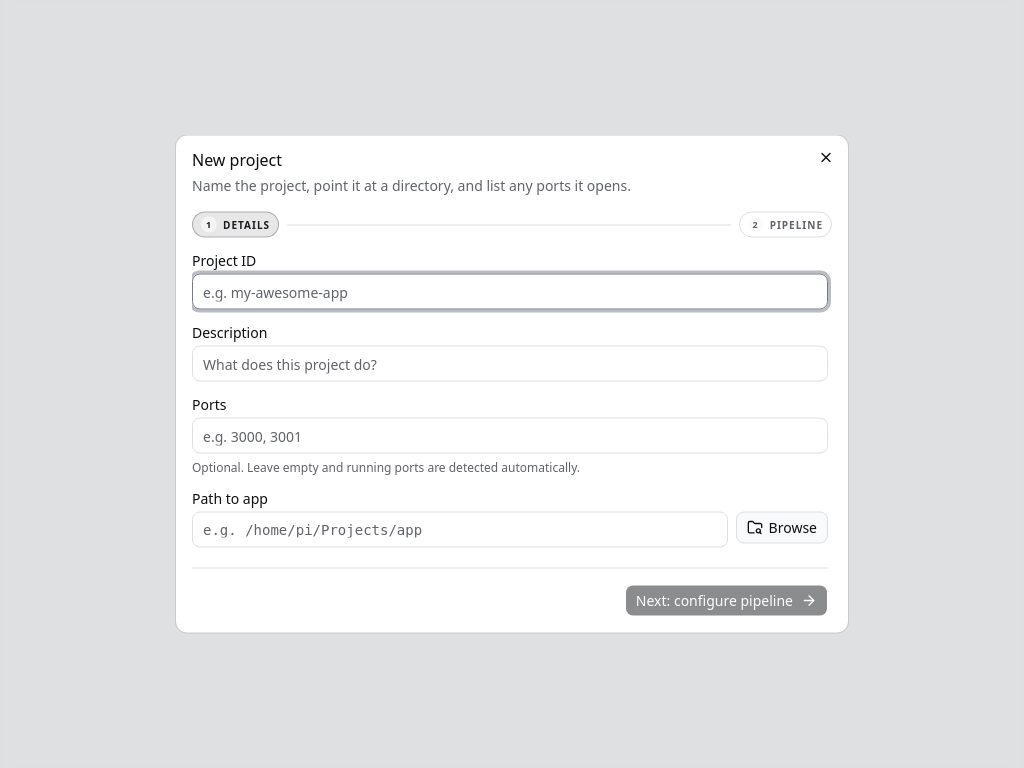
it: CreateProjectDialog details step › opens the file browser and fills the chosen path
The image size is (1024, 768).
Click the button "Browse" at [782, 528], box [736, 512, 828, 544]
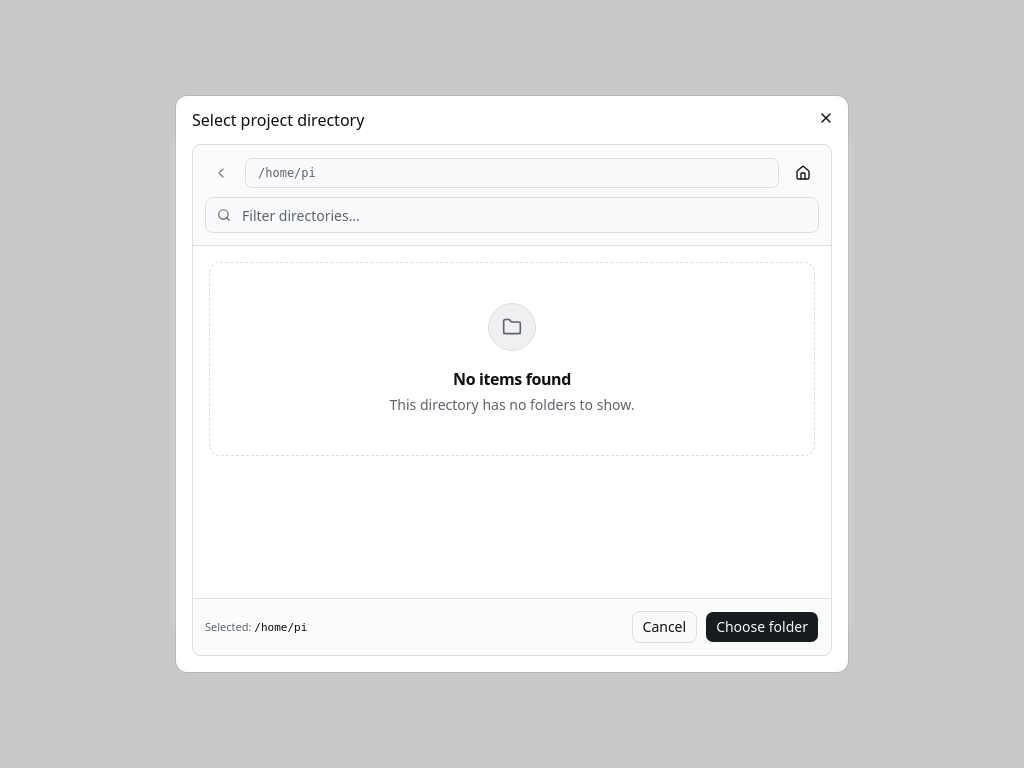
Result: the heading "Select project directory" is shown at [192, 109, 364, 131]
Click the button "Choose folder" at [762, 627], box [705, 611, 819, 643]
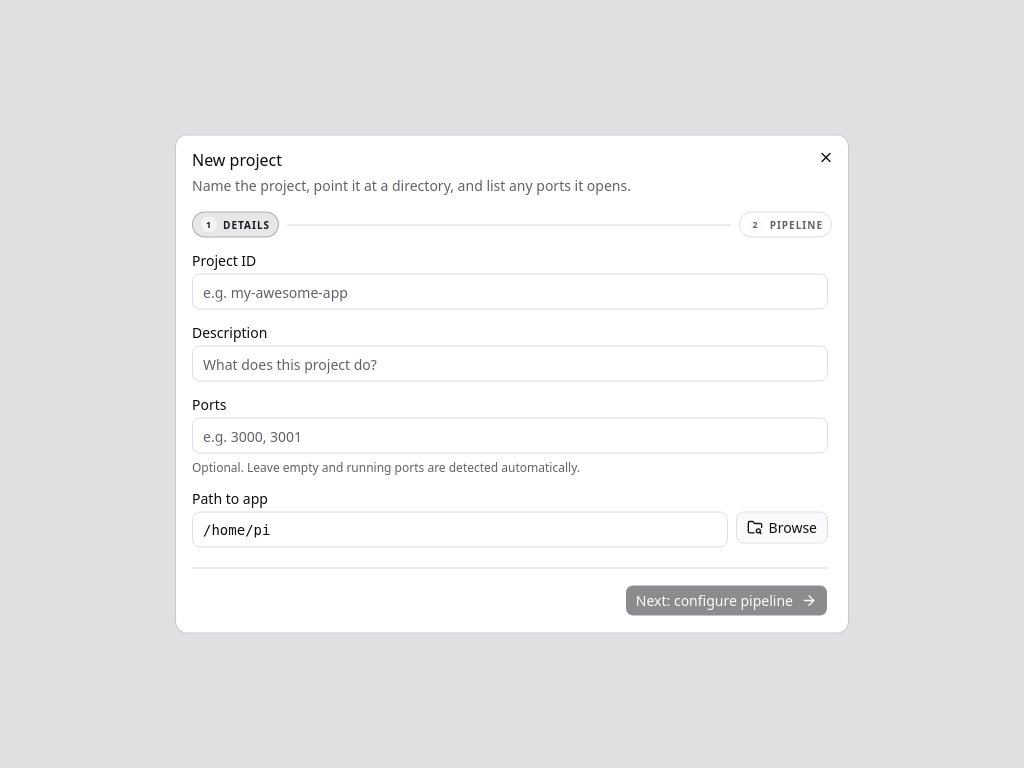
Result: the field labelled "Path to app" holds "/home/pi" at [192, 512, 728, 548]
Result: the heading "Select project directory" is gone
